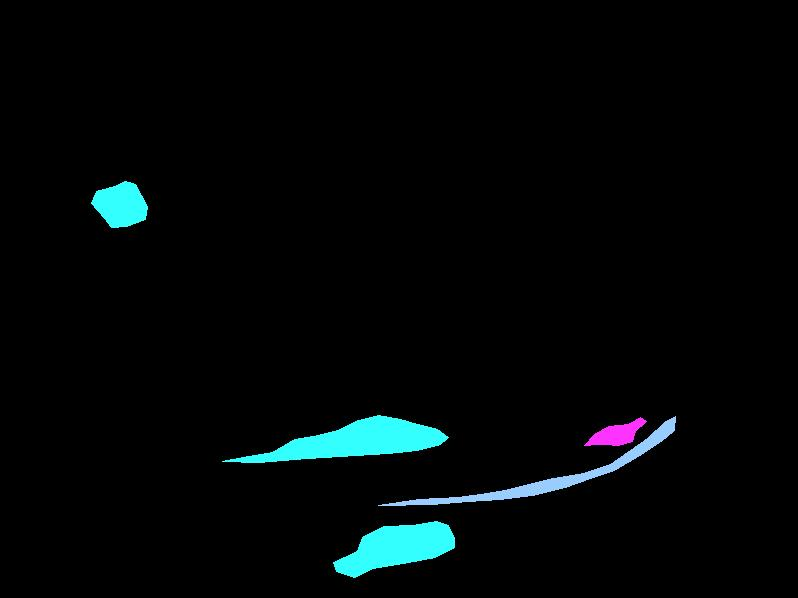Corrosion: (378, 416, 675, 505)
Dent: (584, 417, 646, 445)
Flaking: (222, 415, 448, 462), (333, 521, 454, 577), (91, 181, 147, 227)
